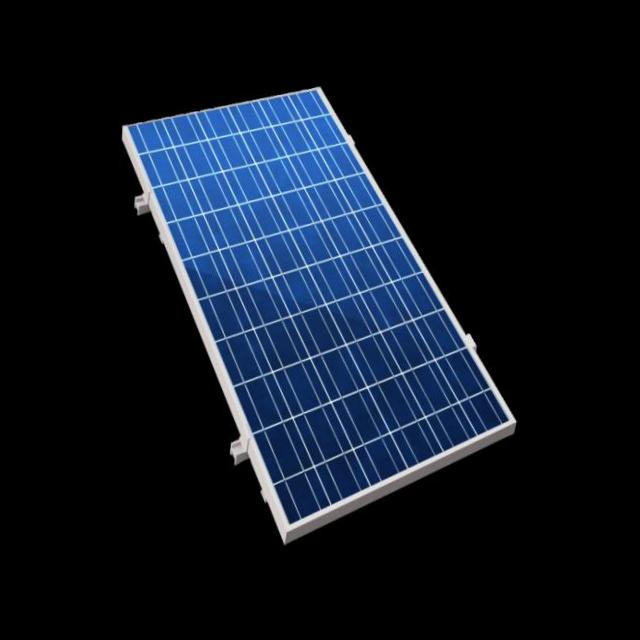no faulty: (128, 93, 512, 512)
